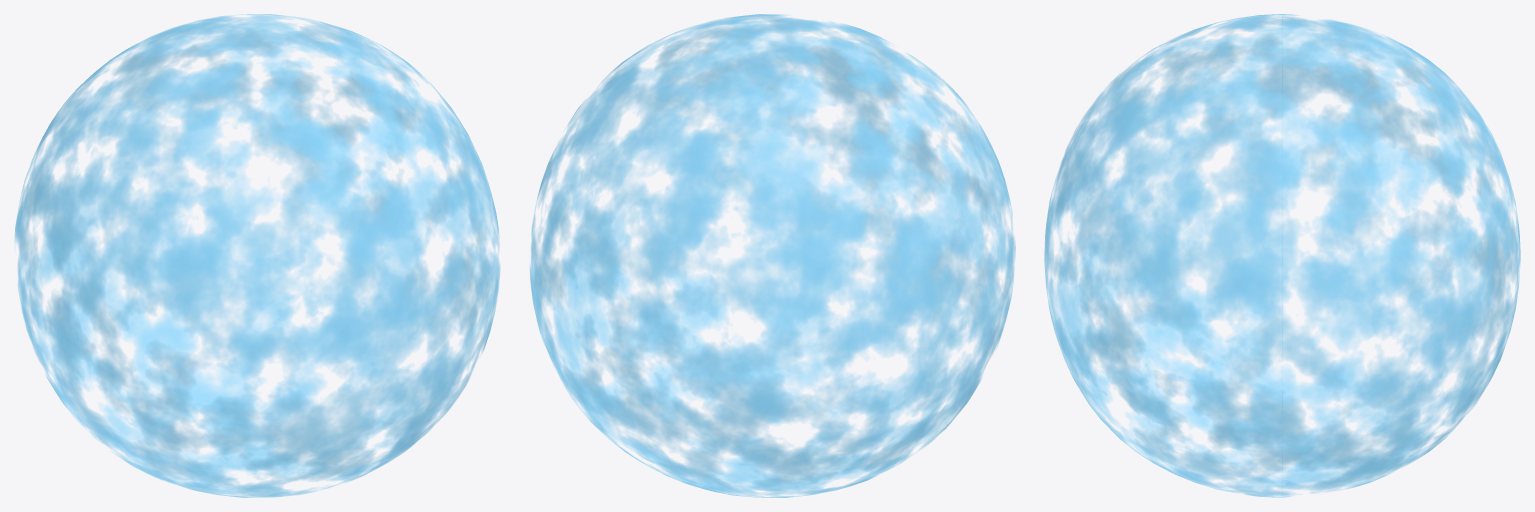
File: shield-cube.glb
3 renders of one model, left to right at view 1: azimuth 30°, elevation 25°; view 2: azimuth 150°, elevation 25°; view 3: azimuth 270°, elevation 25°, orthographic.
Visible parts, largest first — view 1: Cube; view 2: Cube; view 3: Cube.
Part boxes in pixels (x1,y1,x2,y2): Cube: (14,14,500,497); Cube: (529,14,1015,497); Cube: (1044,14,1520,497).
Bounding box in the file's own units: 2 × 2 × 2.
Materials: 1 (1 with a texture image).
